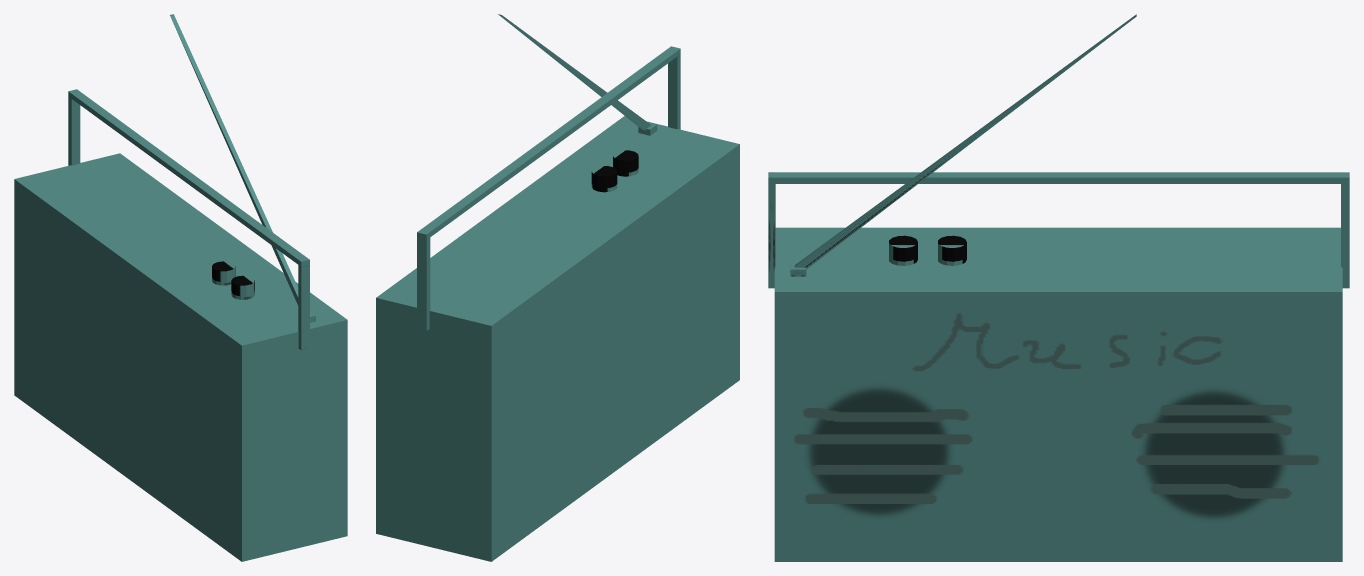
The model's file is radio.fbx.
3 renders of one model, left to right at view 1: azimuth 30°, elevation 25°; view 2: azimuth 150°, elevation 25°; view 3: azimuth 270°, elevation 25°, orthographic. The views are drawn at different scales.
Parts seen in each view (by area): view 1: Cube; view 2: Cube; view 3: Cube.
Boxes of the visible parts, x1,y1,x2,y2 form: Cube: (14,14,347,561); Cube: (376,14,739,561); Cube: (768,14,1349,561).
Bounding box in the file's own units: 0.3876 × 1.48 × 1.48.
Materials: 1 (1 with a texture image).
